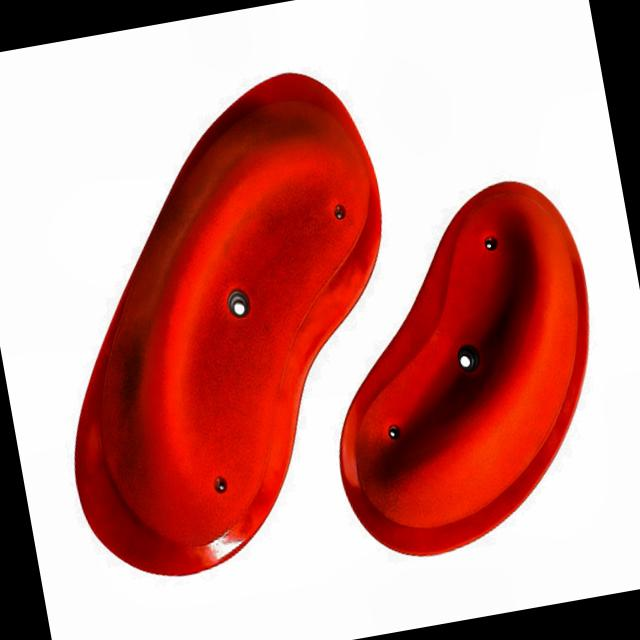Hold: (58, 52, 402, 581), (330, 165, 604, 572)
